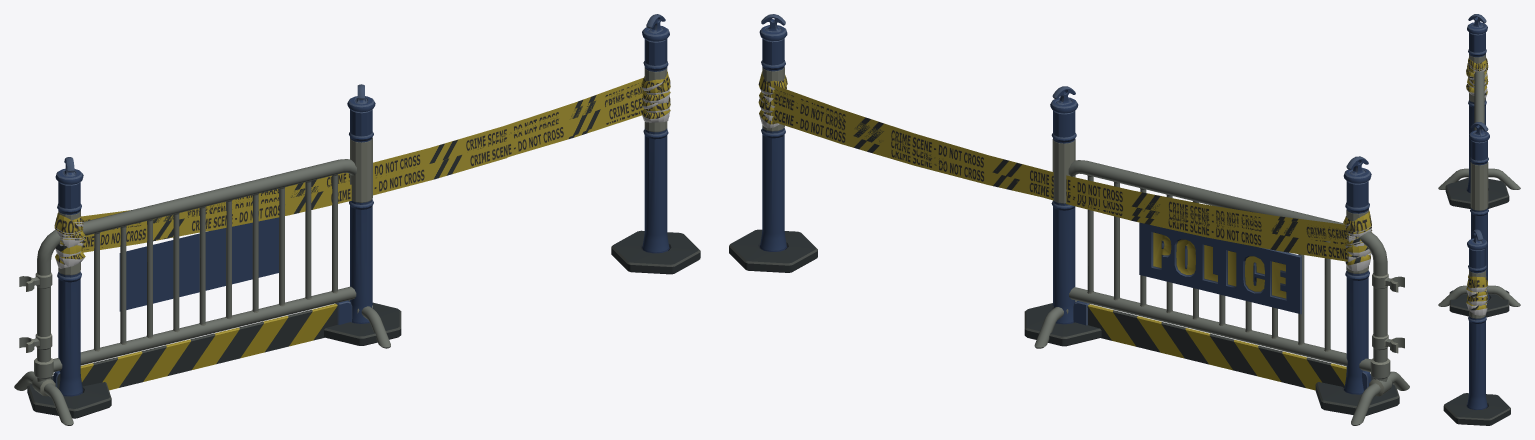
File: PoliceBarrierPropsFBX.fbx
3 renders of one model, left to right at view 1: azimuth 30°, elevation 25°; view 2: azimuth 150°, elevation 25°; view 3: azimuth 270°, elevation 25°, orthographic. The views are drawn at different scales.
Visible parts, largest first — view 1: barrierFrame, policeTape1 (×3), floorBarrier, policeSign, pylon1, pylon, pylon2, policeTapeLoose, policeTapeLoose2, policeTapeLoose1; view 2: policeTape1 (×3), barrierFrame, policeSign, floorBarrier, pylon1, pylon, pylon2; view 3: pylon1, pylon, pylon2, barrierFrame, tapeBunch1 (×3), tapeBunch2 (×3).
Boxes of the visible parts, <box> form: barrierFrame: <box>14,159,390,425</box>; policeTape1 (×3): <box>81,77,644,252</box>; floorBarrier: <box>53,300,352,390</box>; policeSign: <box>119,217,278,311</box>; pylon1: <box>611,14,700,274</box>; pylon: <box>324,84,401,345</box>; pylon2: <box>27,157,111,418</box>; policeTapeLoose: <box>82,93,643,249</box>; policeTapeLoose2: <box>143,118,580,241</box>; policeTapeLoose1: <box>216,142,506,228</box>; policeTape1 (×3): <box>771,85,1348,261</box>; barrierFrame: <box>1034,160,1409,425</box>; policeSign: <box>1139,222,1301,314</box>; floorBarrier: <box>1073,301,1371,390</box>; pylon1: <box>729,14,817,272</box>; pylon: <box>1024,86,1101,346</box>; pylon2: <box>1315,156,1399,415</box>; pylon1: <box>1443,229,1510,425</box>; pylon: <box>1449,122,1509,317</box>; pylon2: <box>1445,14,1509,208</box>; barrierFrame: <box>1438,71,1520,306</box>; tapeBunch1 (×3): <box>1466,60,1488,315</box>; tapeBunch2 (×3): <box>1466,58,1488,297</box>.
Bounding box in the file's own units: 371 × 129 × 52.62.
